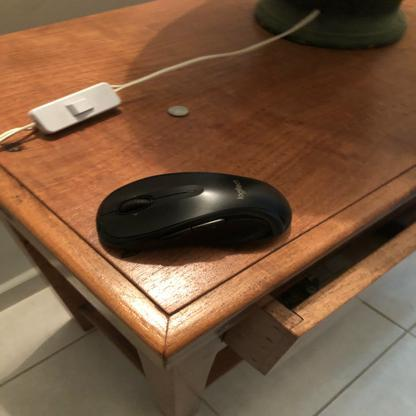mouse: (94, 171, 290, 260)
